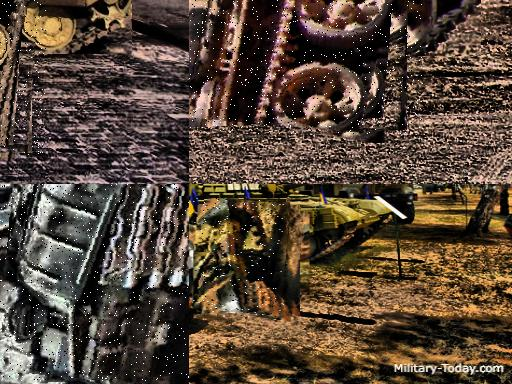tanks: (1, 185, 190, 382), (190, 1, 394, 135), (190, 185, 418, 262), (194, 199, 285, 318)
